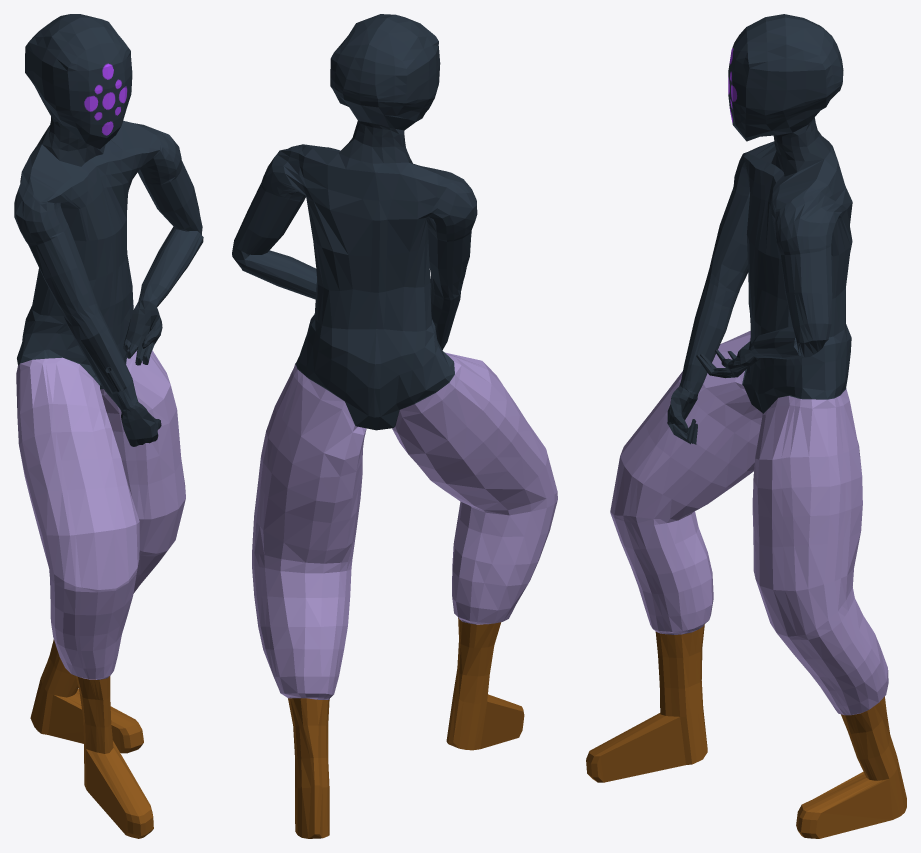
The model's file is Oracle_WF_000008.obj.
The picture shows the model from 3 angles, left to right: view 1: azimuth 30°, elevation 25°; view 2: azimuth 150°, elevation 25°; view 3: azimuth 270°, elevation 25°; orthographic projection. The views are drawn at different scales.
Visible parts, largest first — view 1: Cube; view 2: Cube; view 3: Cube.
Part boxes in pixels (<box>): Cube: <box>14,14,203,838</box>; Cube: <box>232,14,557,838</box>; Cube: <box>586,14,906,838</box>.
Bounding box in the file's own units: 1.2 × 3.82 × 1.41.
